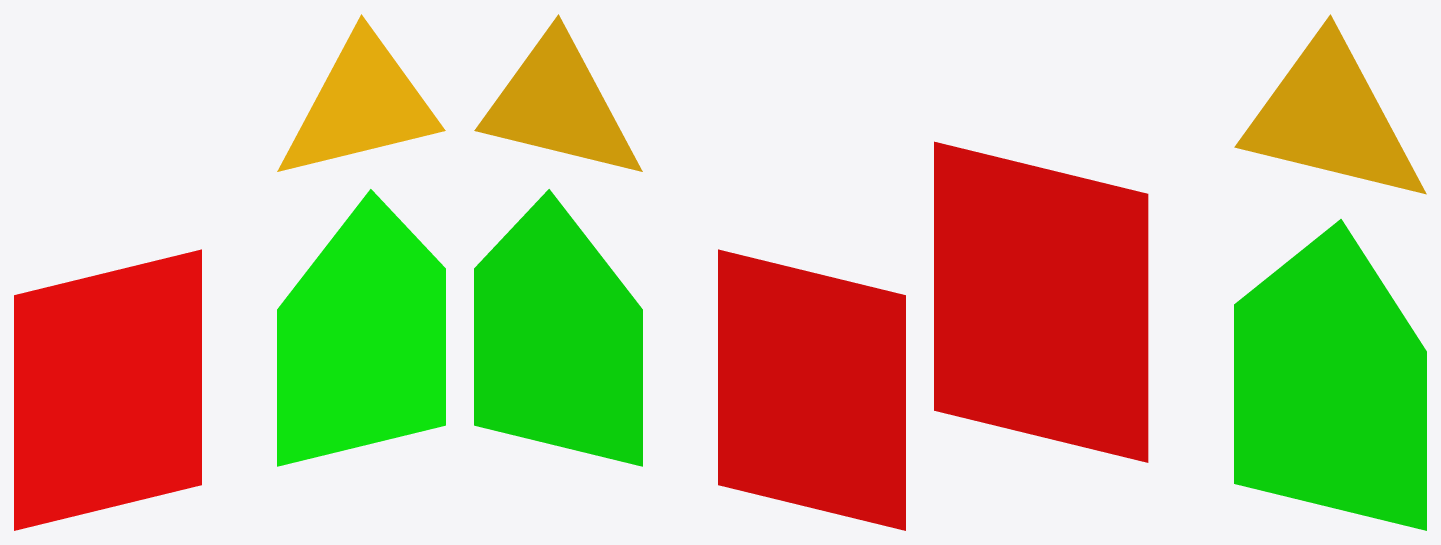
Rendered from loose_topology.gltf.
3 renders of one model, left to right at view 1: azimuth 30°, elevation 25°; view 2: azimuth 150°, elevation 25°; view 3: azimuth 330°, elevation 25°, orthographic. The views are drawn at different scales.
Visible parts, largest first — view 1: Strip, Fan, IncompleteTriangles; view 2: Strip, Fan, IncompleteTriangles; view 3: Strip, Fan, IncompleteTriangles.
Boxes of the visible parts, <box> form: Strip: <box>14,249,201,530</box>; Fan: <box>277,189,445,466</box>; IncompleteTriangles: <box>277,14,445,171</box>; Strip: <box>718,249,905,530</box>; Fan: <box>474,189,642,466</box>; IncompleteTriangles: <box>474,14,642,171</box>; Strip: <box>934,141,1148,462</box>; Fan: <box>1234,219,1426,530</box>; IncompleteTriangles: <box>1234,14,1426,194</box>.
Size of the model in its own units: 1.15 by 1.1 by 0.
